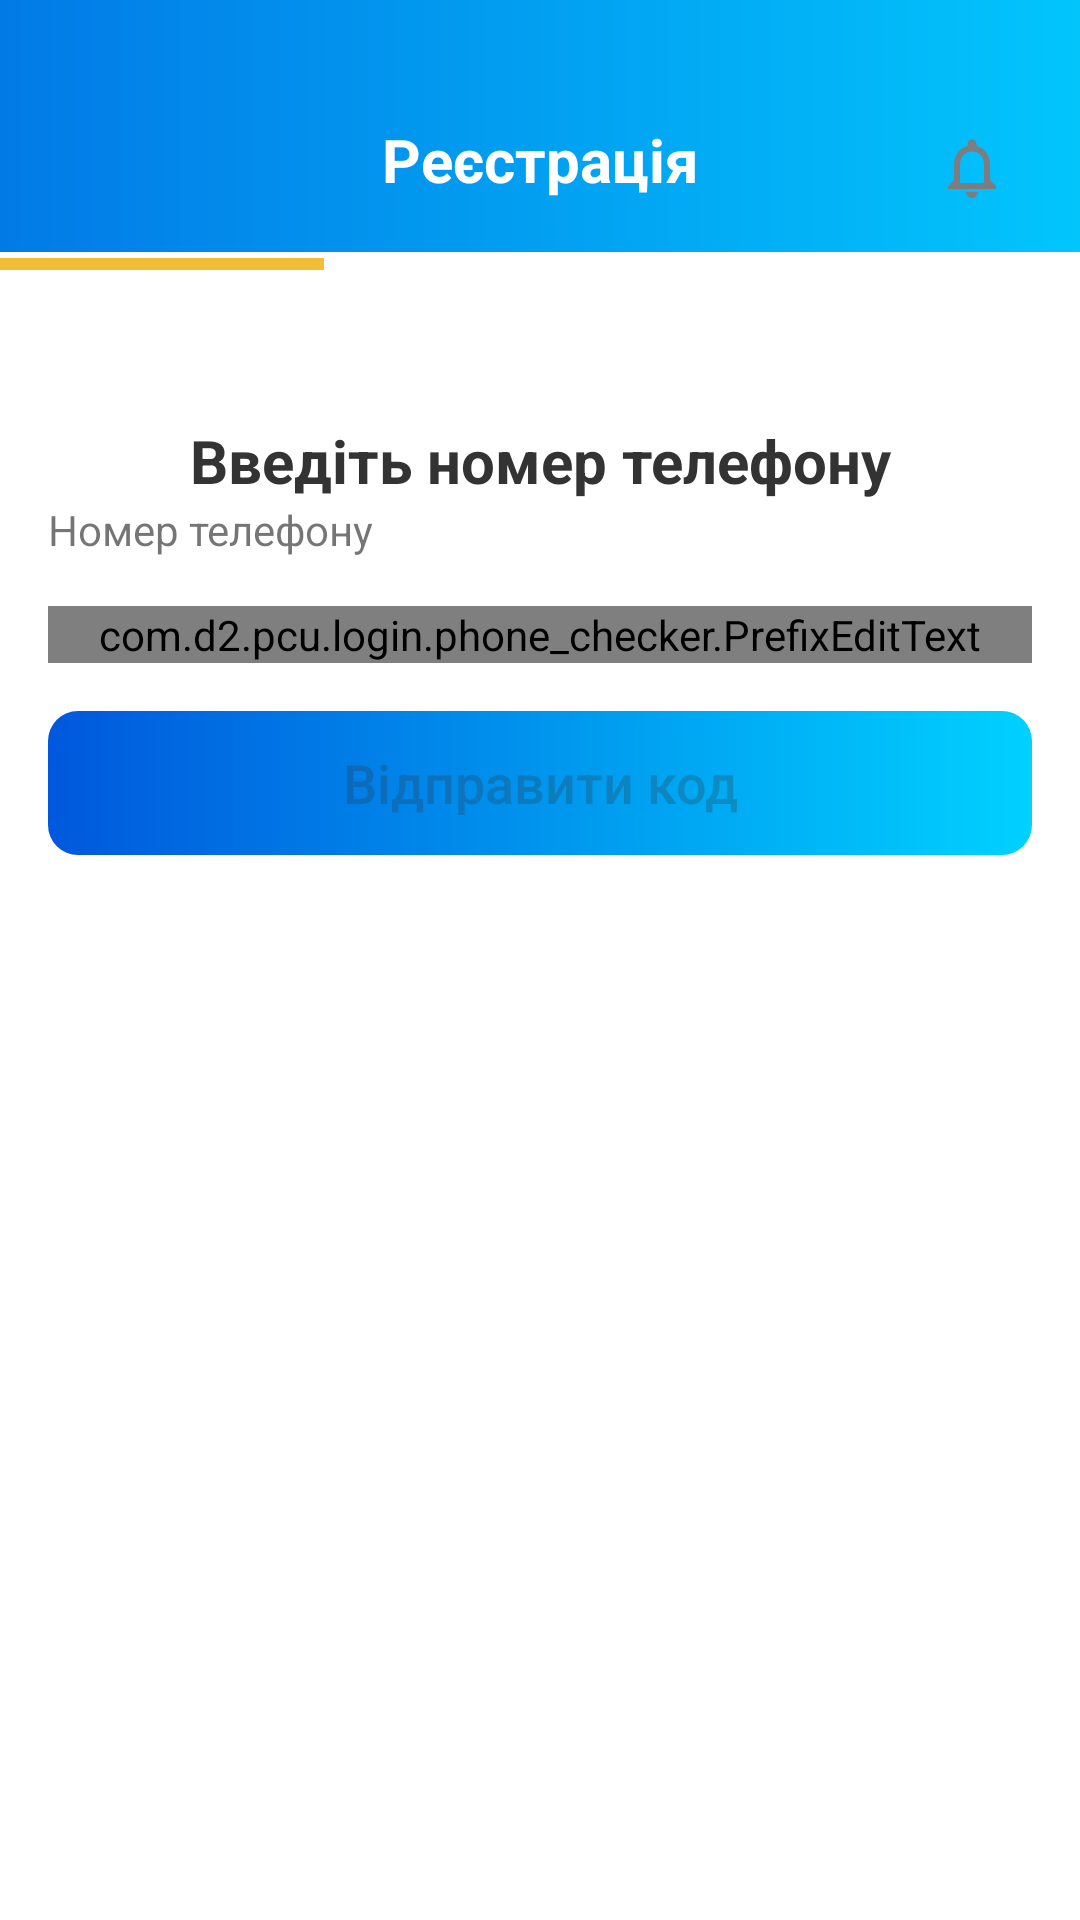

Screen size 1080w x 1920h. Icon name, then its center in pixels as (x=x, y=y):
notifications none: (x=972, y=168)
